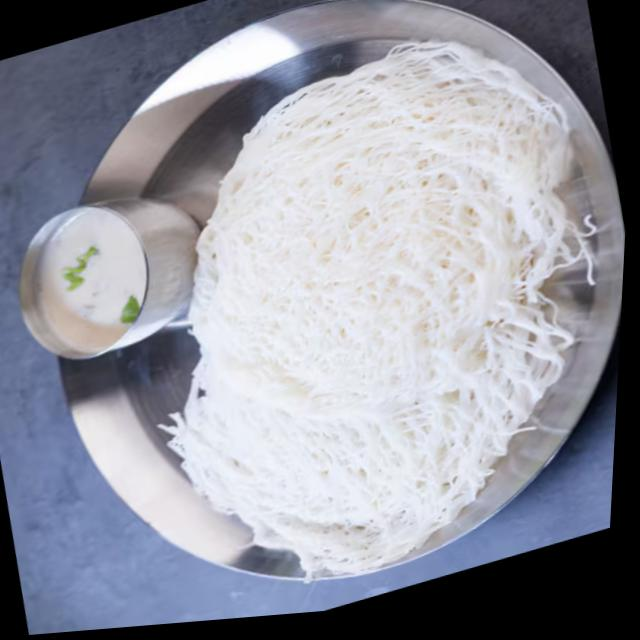IDIYAPPAM: (159, 36, 582, 585)
SWEET: (31, 209, 148, 352)
